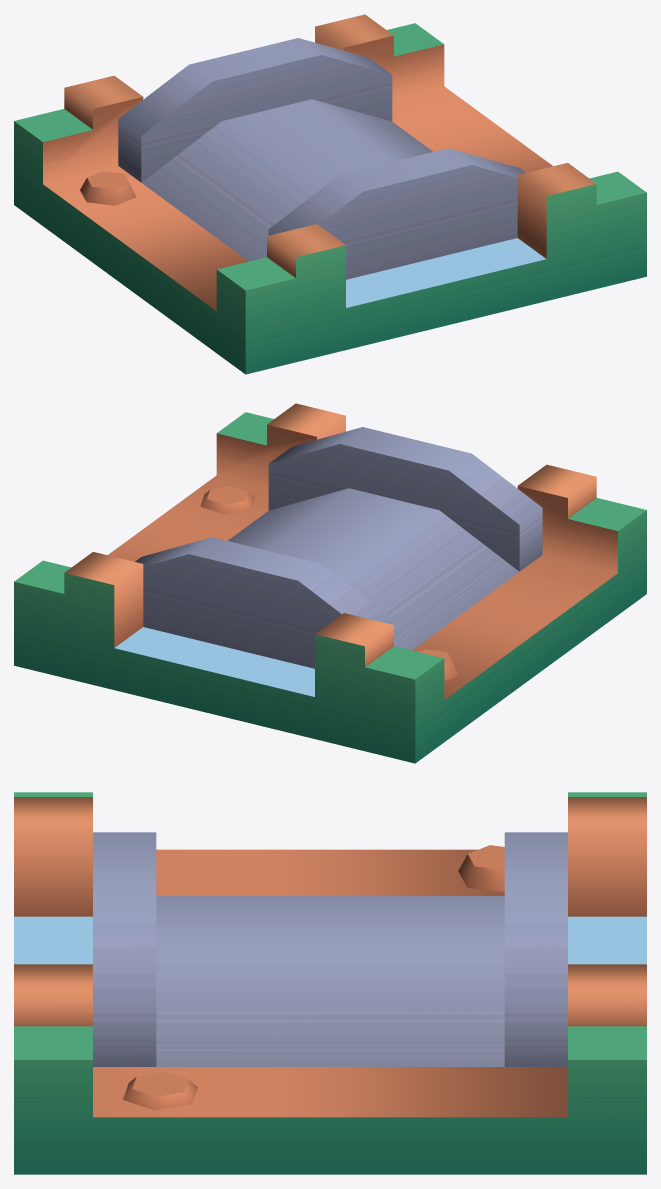
Rendered from tile-river-bridge.glb.
3 renders of one model, top to bottom at view 1: azimuth 30°, elevation 25°; view 2: azimuth 150°, elevation 25°; view 3: azimuth 270°, elevation 25°, orthographic. The views are drawn at different scales.
Parts seen in each view (by area): view 1: tile-river-bridge; view 2: tile-river-bridge; view 3: tile-river-bridge.
Part boxes in pixels (left/top/right/bottom): tile-river-bridge: left=14, top=14, right=646, bottom=374; tile-river-bridge: left=14, top=403, right=646, bottom=763; tile-river-bridge: left=14, top=792, right=646, bottom=1174.
Bounding box in the file's own units: 1 × 0.3 × 1.
1 material, 1 textured.
